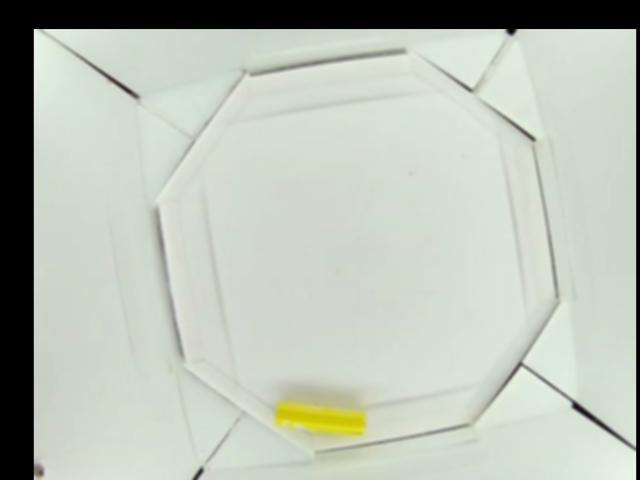Battery: (270, 399, 368, 434)
